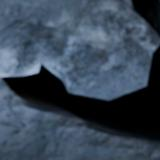broken_brick: (0, 0, 157, 98)
crack: (1, 0, 159, 159)
